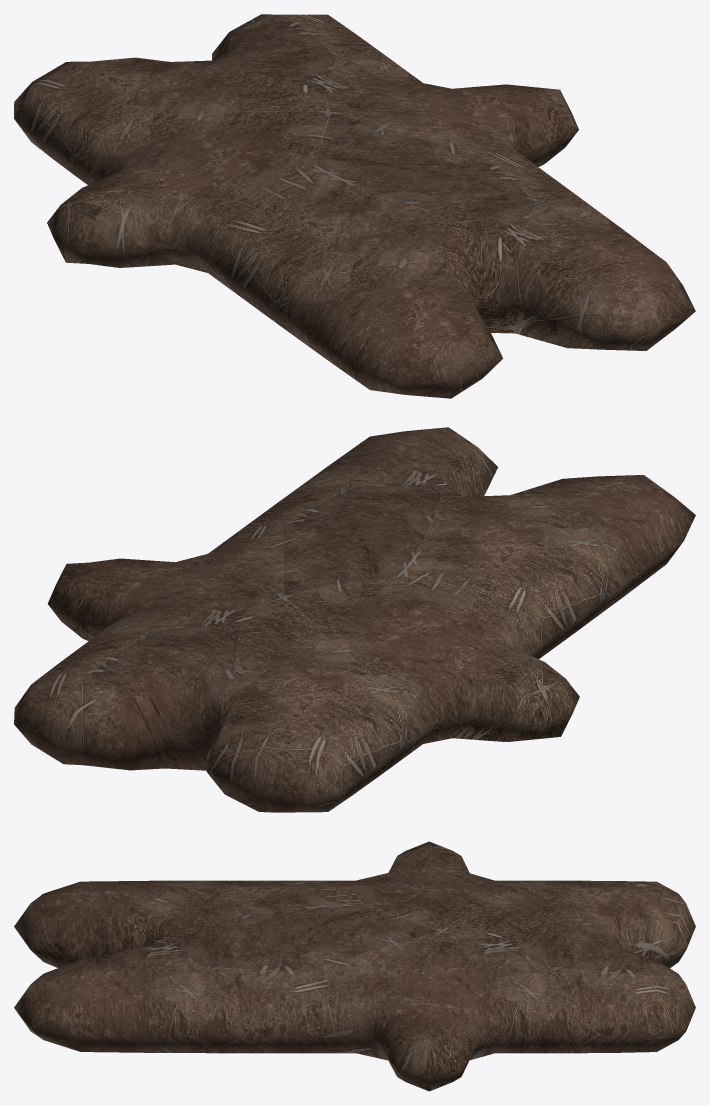
File: TeddyBear_1.fbx
The picture shows the model from 3 angles, top to bottom: view 1: azimuth 30°, elevation 25°; view 2: azimuth 150°, elevation 25°; view 3: azimuth 270°, elevation 25°; orthographic projection. The views are drawn at different scales.
Visible parts, largest first — view 1: TeddyBear_1; view 2: TeddyBear_1; view 3: TeddyBear_1.
Boxes of the visible parts, bbox=[...] form: TeddyBear_1: bbox=[14, 14, 695, 398]; TeddyBear_1: bbox=[14, 427, 695, 812]; TeddyBear_1: bbox=[14, 841, 695, 1091].
Size of the model in its own units: 7.76 by 1.64 by 10.39.
